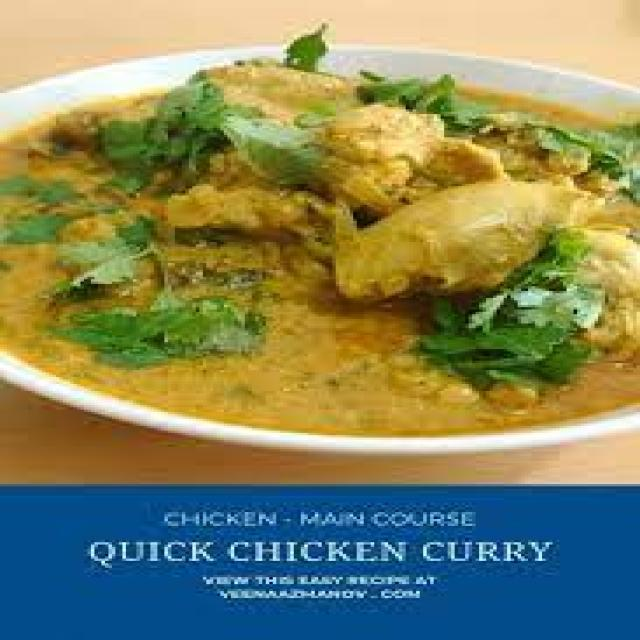Frango: (0, 61, 640, 435), (0, 70, 640, 433)
